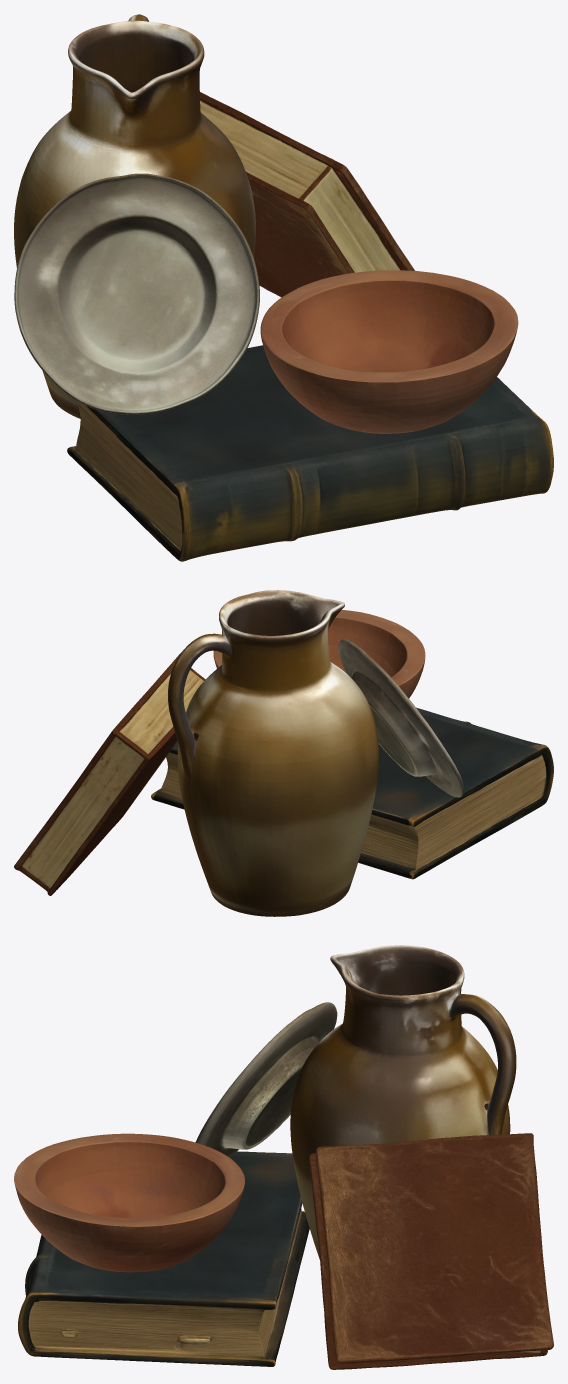
The model's file is phi-scene.glb.
The picture shows the model from 3 angles, top to bottom: view 1: azimuth 30°, elevation 25°; view 2: azimuth 150°, elevation 25°; view 3: azimuth 270°, elevation 25°; orthographic projection. The views are drawn at different scales.
Visible parts, largest first — view 1: object_04, object_00, object_02, object_03, object_01; view 2: object_03, object_04, object_01, object_00, object_02; view 3: object_01, object_03, object_04, object_02, object_00.
Part boxes in pixels (bbox=[...]): object_04: bbox=[67, 345, 553, 561]; object_00: bbox=[14, 173, 259, 414]; object_02: bbox=[260, 270, 518, 433]; object_03: bbox=[14, 14, 255, 418]; object_01: bbox=[200, 92, 414, 297]; object_03: bbox=[168, 590, 378, 916]; object_04: bbox=[151, 707, 553, 879]; object_01: bbox=[14, 652, 205, 895]; object_00: bbox=[338, 639, 463, 797]; object_02: bbox=[213, 610, 425, 698]; object_01: bbox=[309, 1133, 553, 1369]; object_03: bbox=[290, 945, 516, 1259]; object_04: bbox=[18, 1151, 309, 1366]; object_02: bbox=[14, 1133, 244, 1272]; object_00: bbox=[195, 1002, 337, 1156].
Bounding box in the file's own units: 0.8622 × 0.6355 × 1.03.
Materials: 5 (5 with a texture image).
